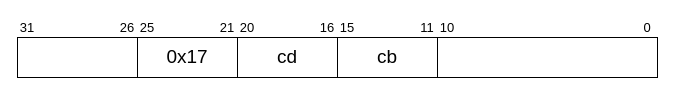
This 675x95 diagram has some shape labels left out. The centre of each missing label's shape, as x and y in pixels:
0x12: the point at 77,57
immediate: the point at 547,57
